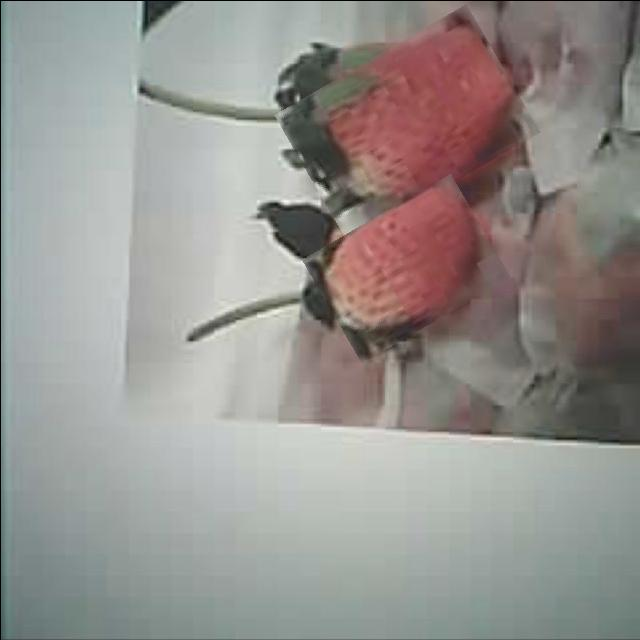strawberry: (284, 26, 528, 220), (310, 190, 500, 344)
